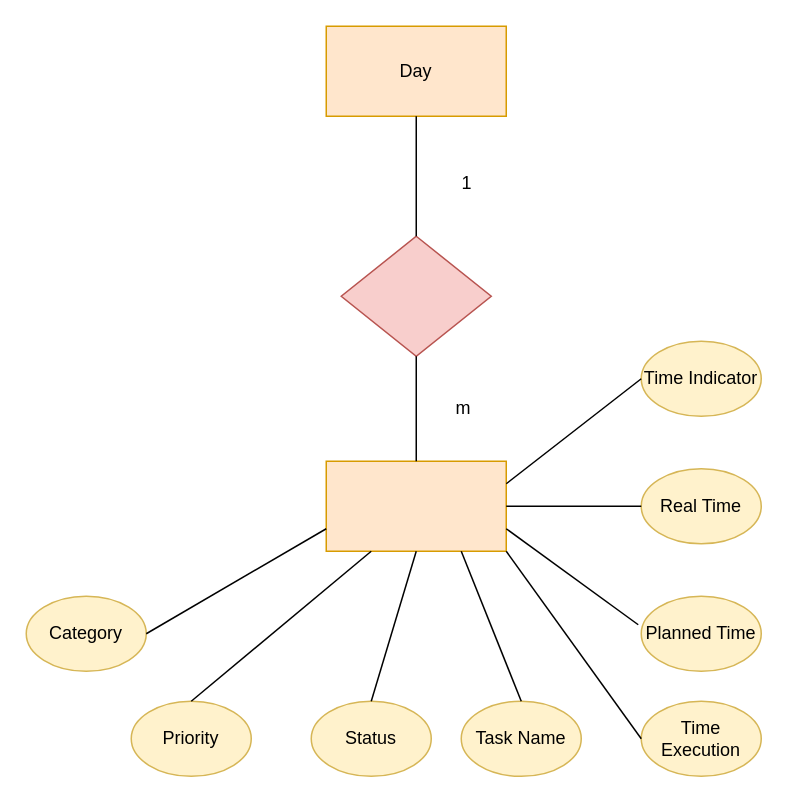
This 788x803 diagram has some shape labels left out. Here are the shapes that lost their labels. From the top down, the centre of each, then its label:
the point at 415,295: Has
the point at 415,505: Task
